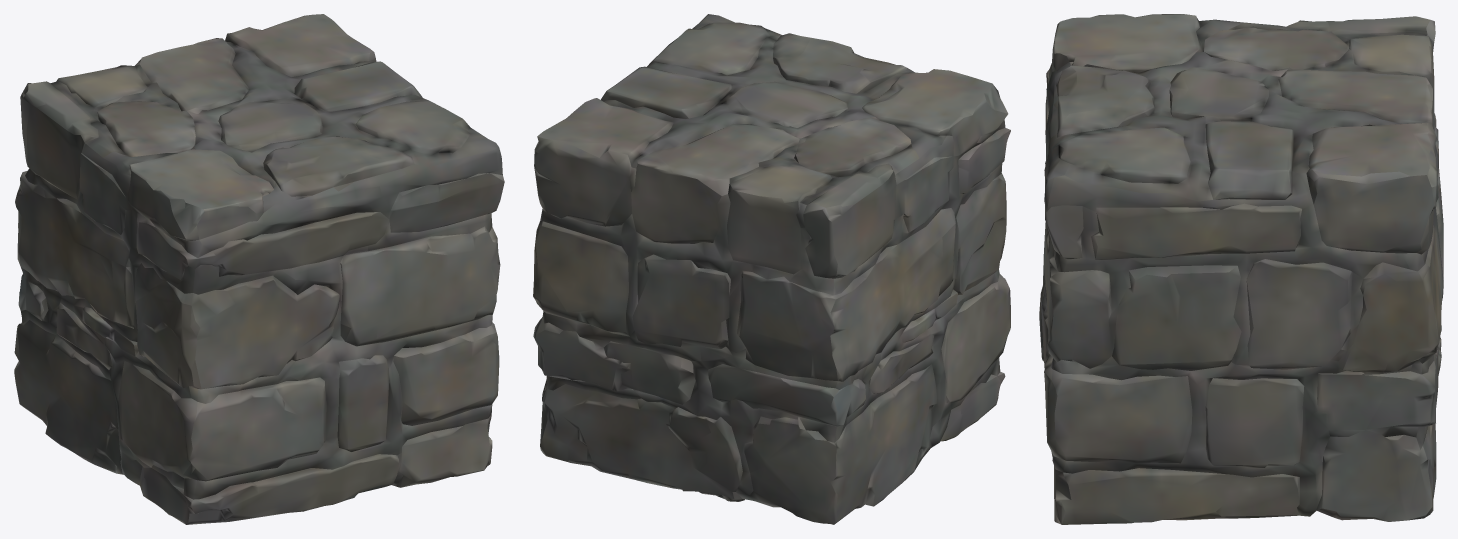
File: Floor_Stone_C.glb
The picture shows the model from 3 angles, left to right: view 1: azimuth 30°, elevation 25°; view 2: azimuth 150°, elevation 25°; view 3: azimuth 270°, elevation 25°; orthographic projection. The views are drawn at different scales.
Parts seen in each view (by area): view 1: SM_Stone_Floor; view 2: SM_Stone_Floor; view 3: SM_Stone_Floor.
Part boxes in pixels (x1=…): SM_Stone_Floor: x1=14, y1=14, x2=504, y2=524; SM_Stone_Floor: x1=533, y1=14, x2=1010, y2=524; SM_Stone_Floor: x1=1039, y1=14, x2=1443, y2=524.
Size of the model in its own units: 3.17 by 3.15 by 3.21.
1 material, 1 textured.
